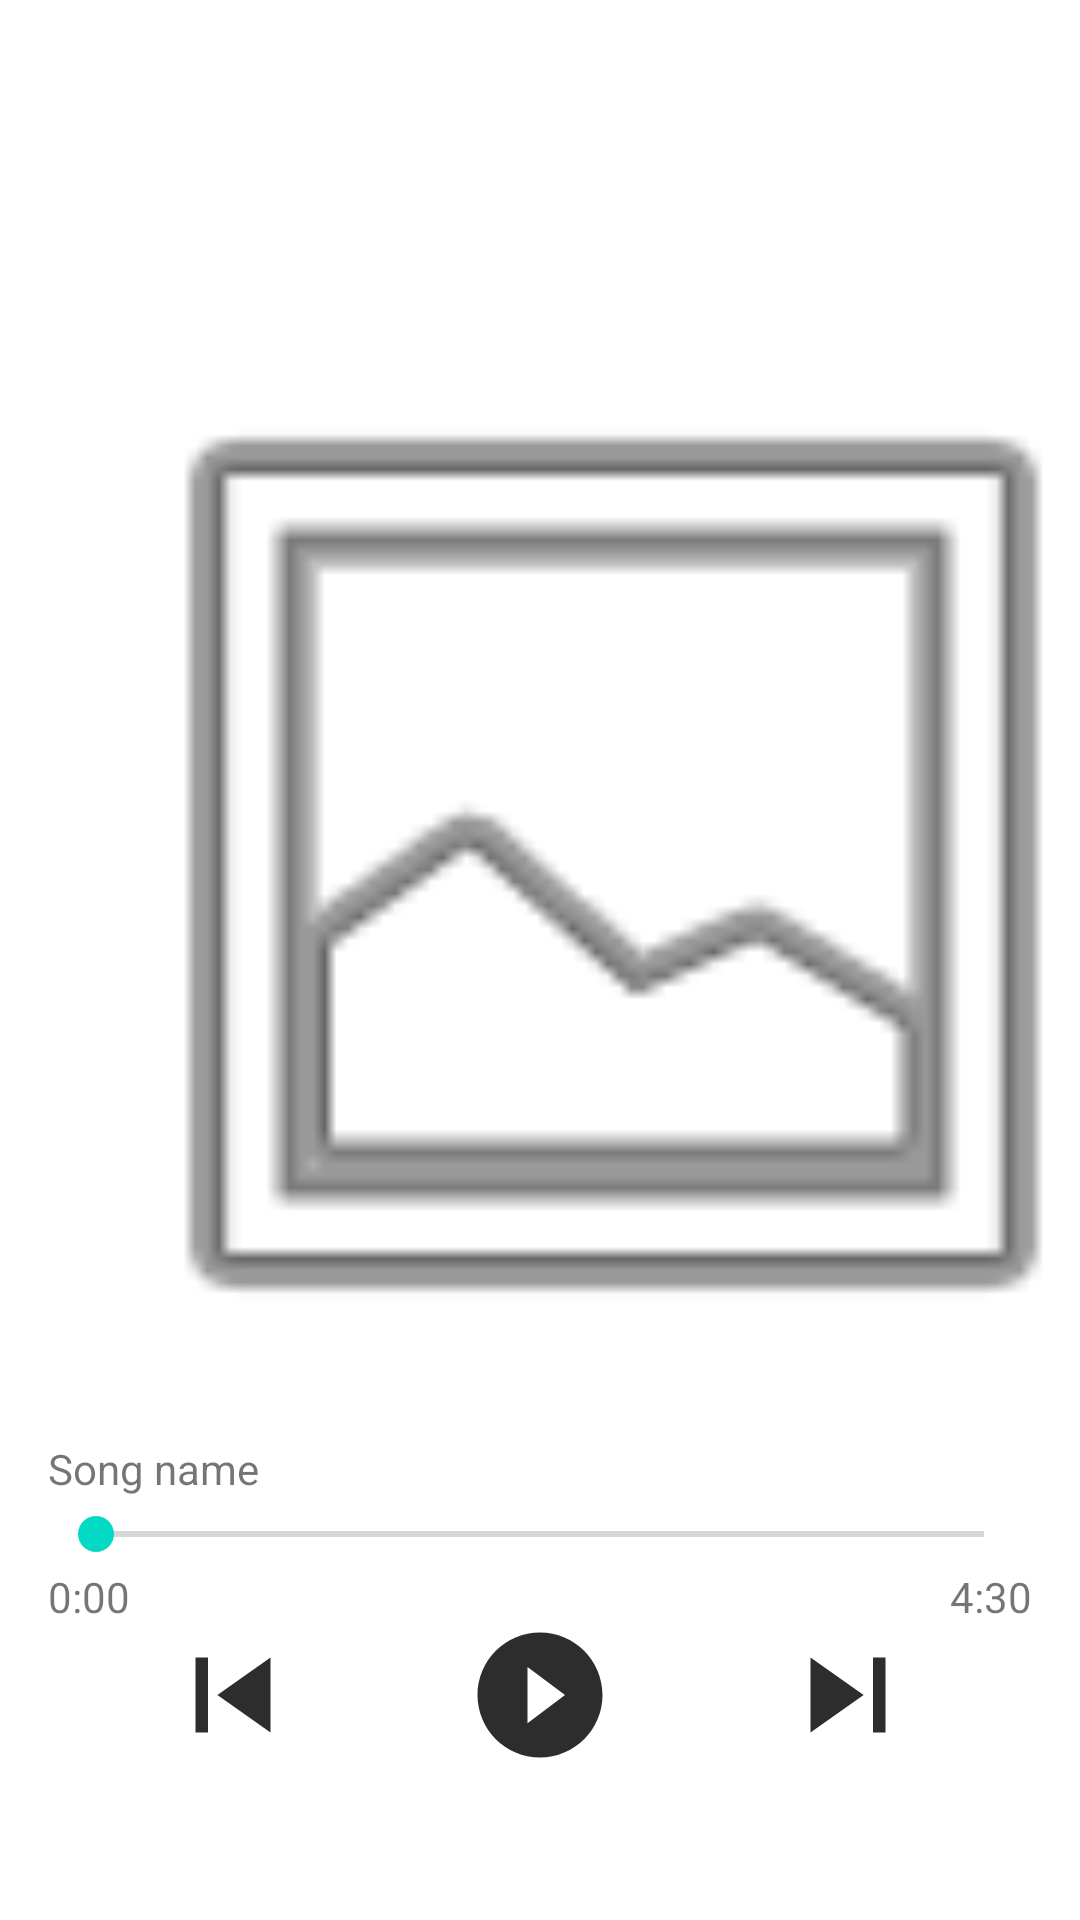

Screen size 1080 × 1920. Icon name, then its box in pixels as bbox=[x1, y1, x2, y2]:
play: bbox=[477, 1632, 603, 1758]
skip next: bbox=[810, 1657, 886, 1733]
skip previous: bbox=[195, 1657, 271, 1733]
